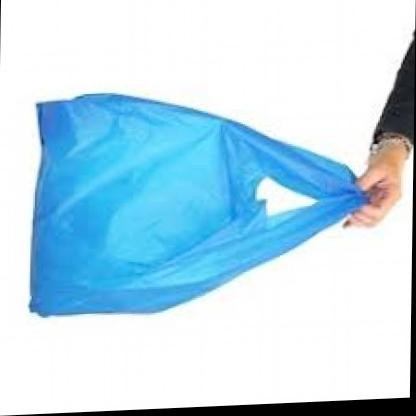trash: (31, 94, 365, 314)
